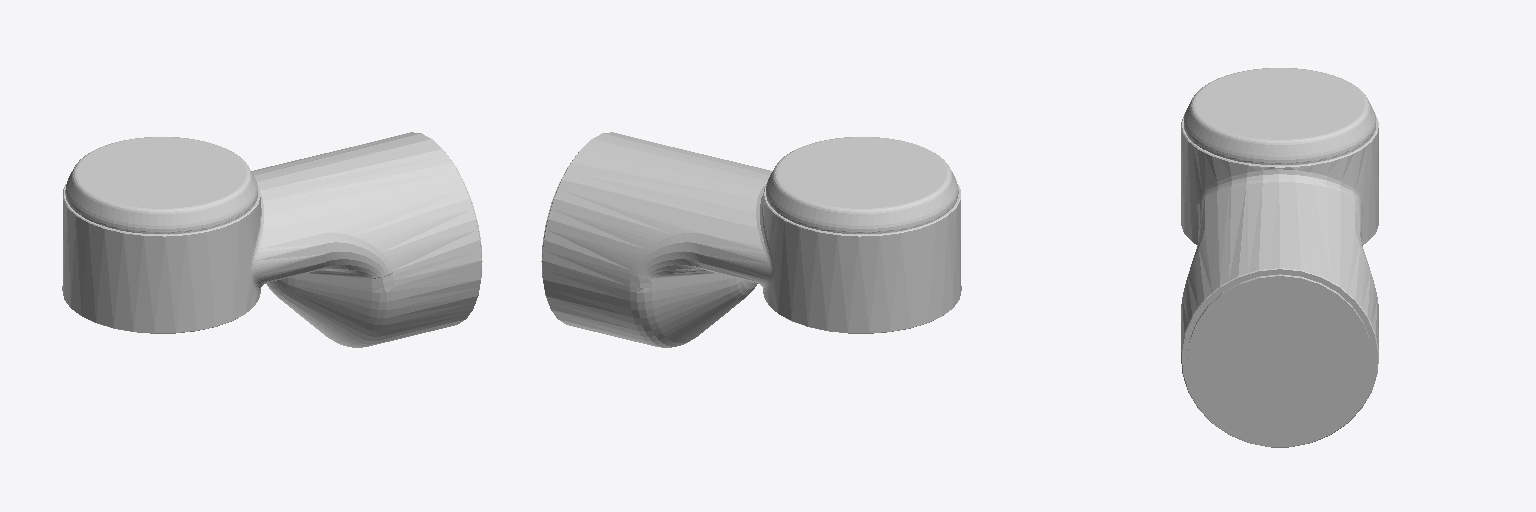
The model's file is elbow_flex_link.obj.
3 views of the same model, side by side, from view 1: azimuth 30°, elevation 25°; view 2: azimuth 150°, elevation 25°; view 3: azimuth 270°, elevation 25° (orthographic).
Parts seen in each view (by area): view 1: obj1; view 2: obj1; view 3: obj1.
Boxes of the visible parts, x1=… form: obj1: x1=62, y1=132, x2=482, y2=347; obj1: x1=541, y1=132, x2=961, y2=347; obj1: x1=1181, y1=68, x2=1378, y2=447.
Bounding box in the file's own units: 0.218 × 0.1225 × 0.104.